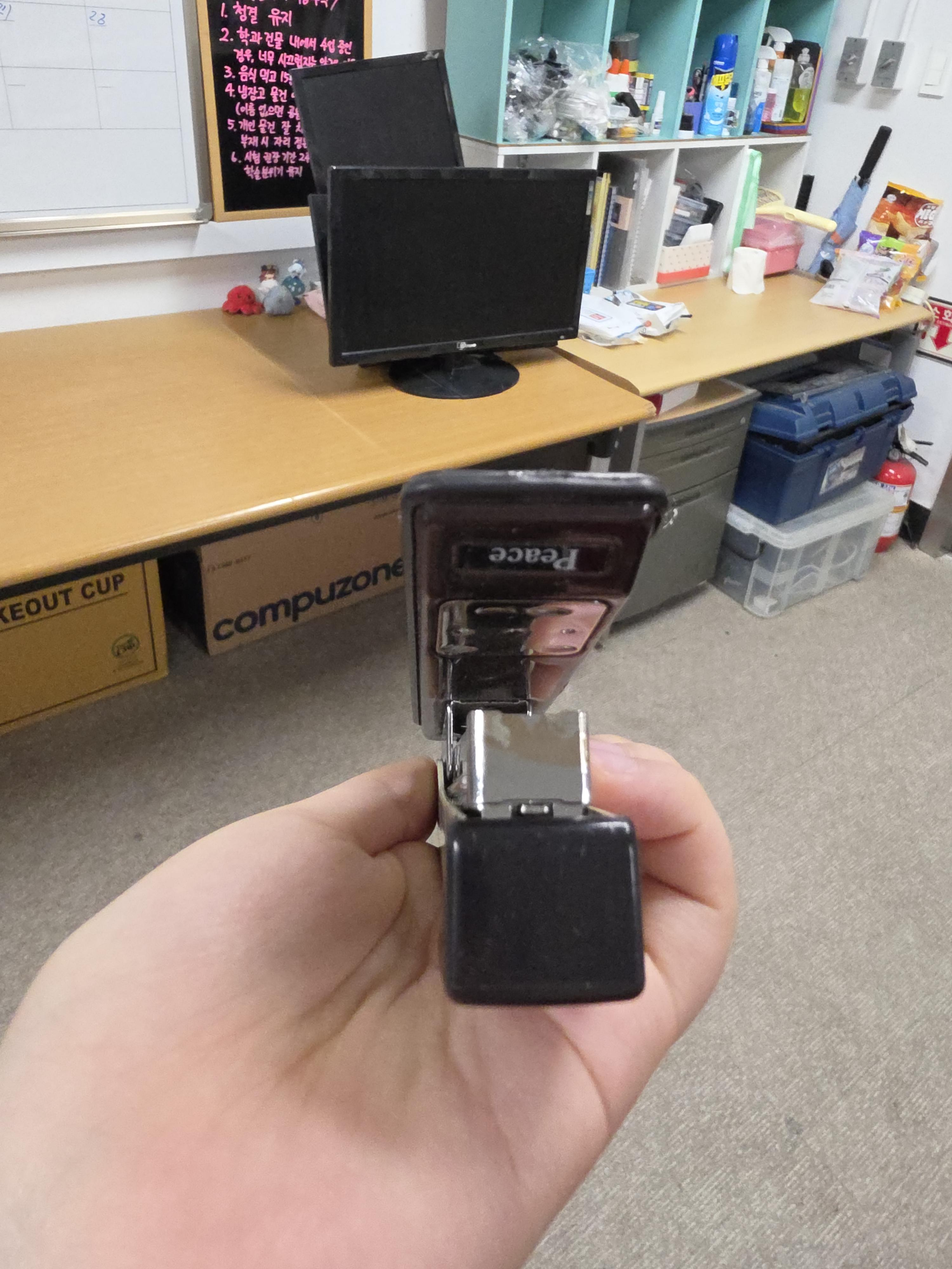stapler: (400, 467, 669, 1006)
tissue: (726, 245, 767, 296)
